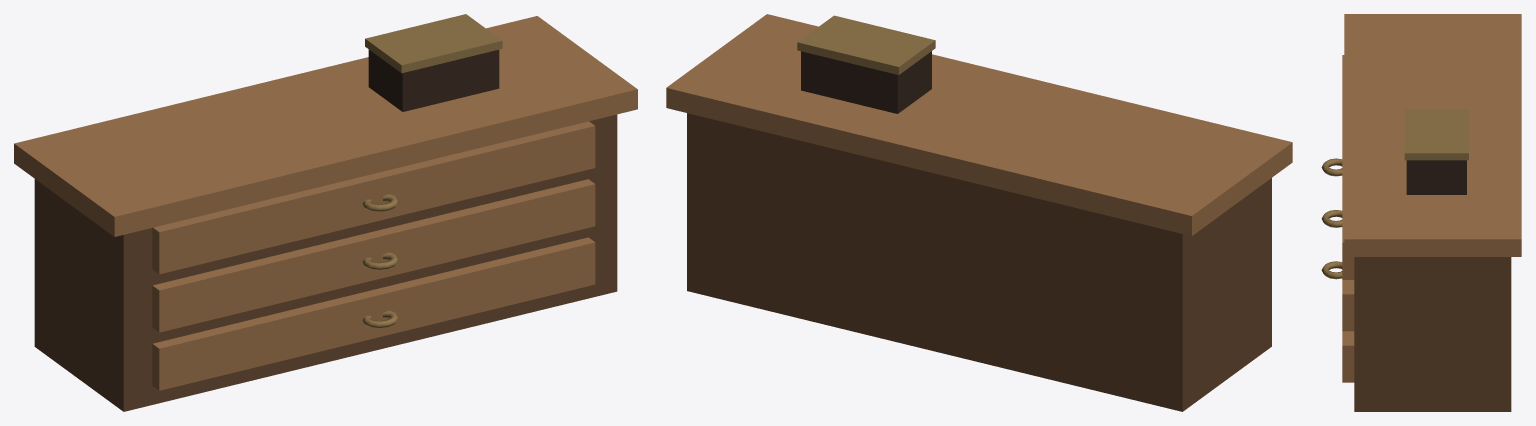
File: dresser.glb
The picture shows the model from 3 angles, left to right: view 1: azimuth 30°, elevation 25°; view 2: azimuth 150°, elevation 25°; view 3: azimuth 270°, elevation 25°; orthographic projection. The views are drawn at different scales.
Parts seen in each view (by area): view 1: dresser; view 2: dresser; view 3: dresser.
Part boxes in pixels (bbox=[...]): dresser: bbox=[14, 14, 637, 411]; dresser: bbox=[666, 14, 1292, 411]; dresser: bbox=[1321, 14, 1521, 411].
Size of the model in its own units: 2.4 by 1.1 by 0.9.
1 material, 1 textured.
